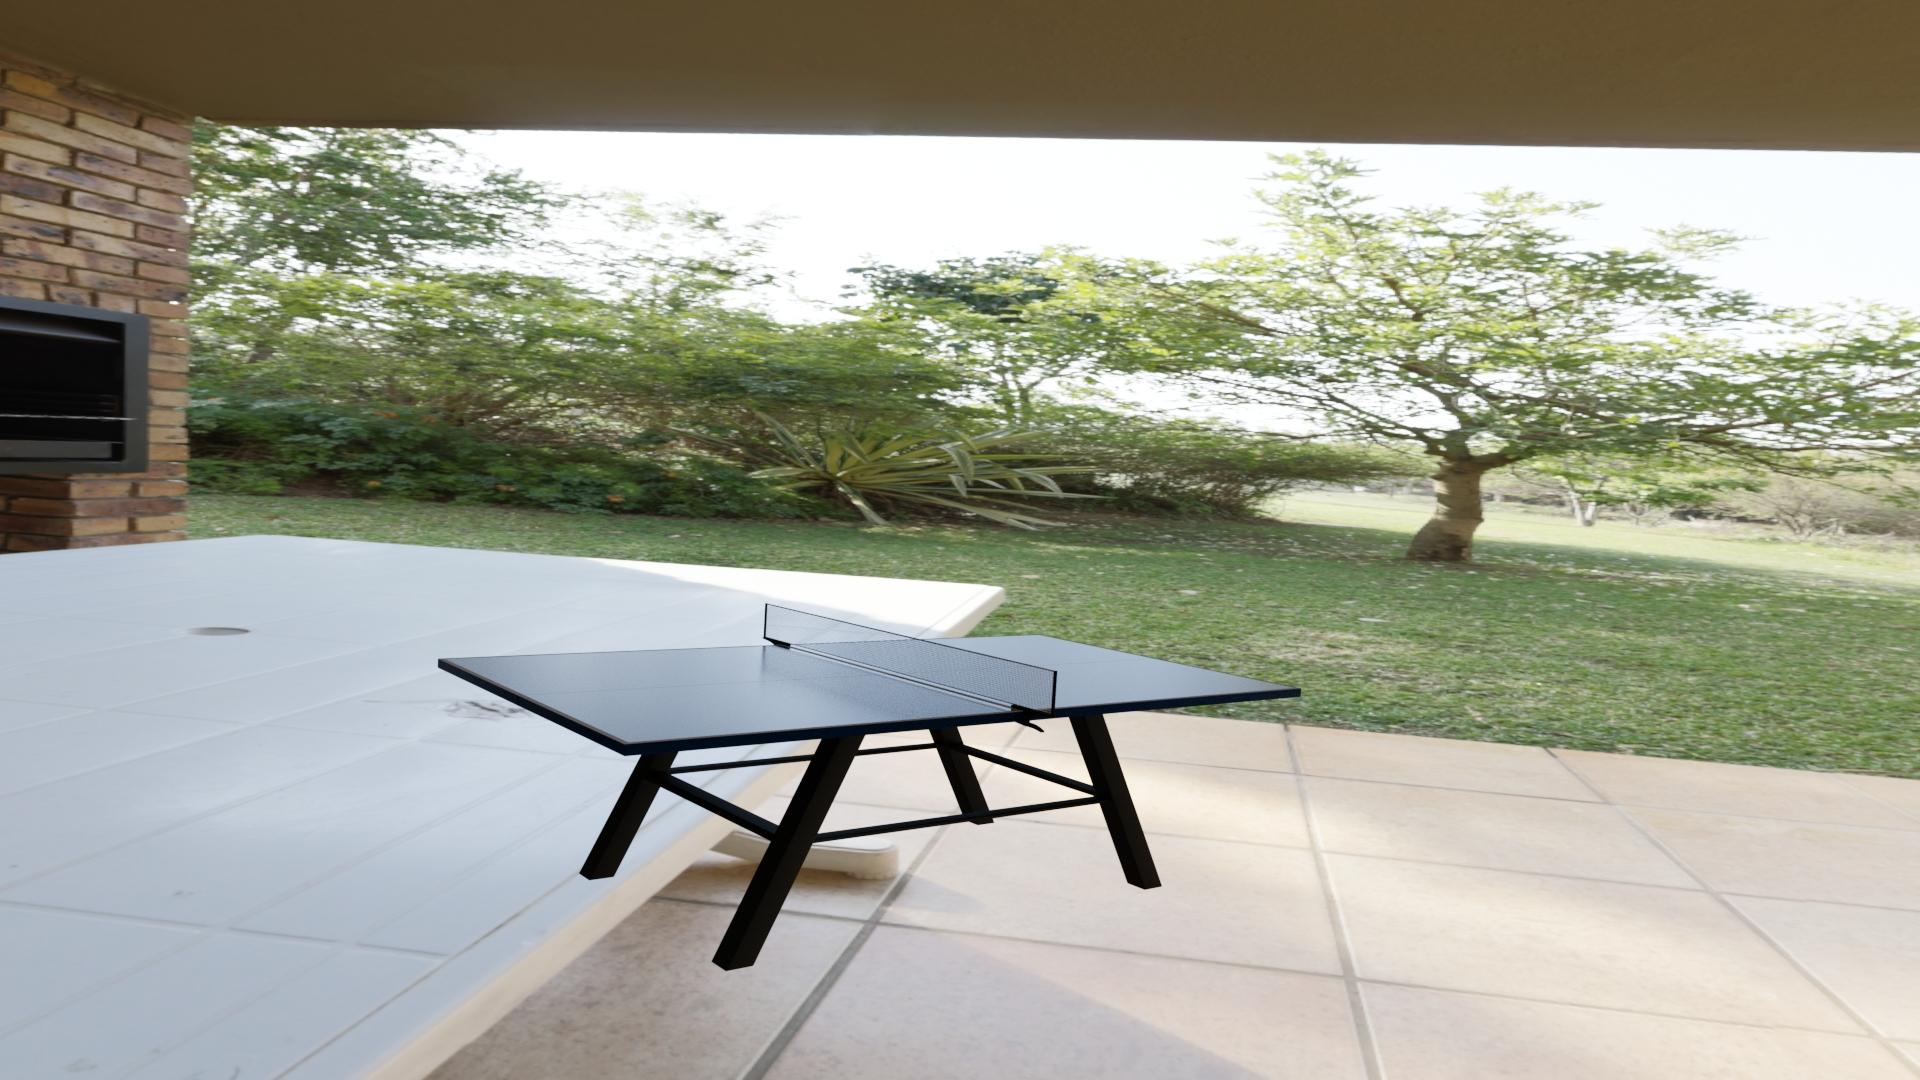table: (446, 636, 1294, 742)
